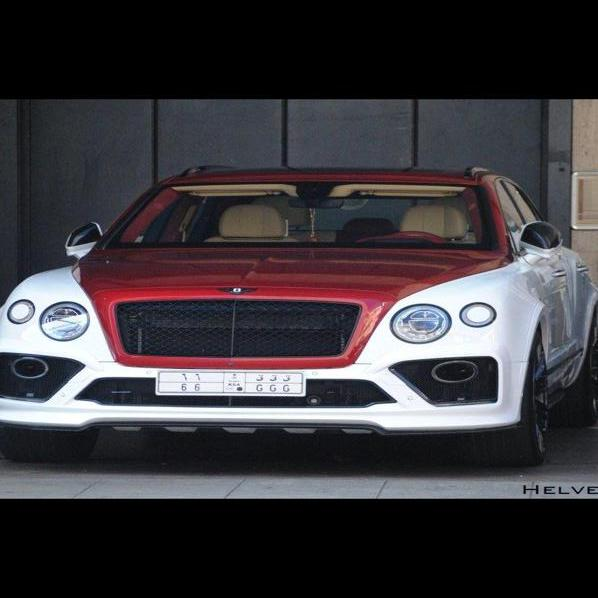numberplate: (155, 368, 309, 398)
